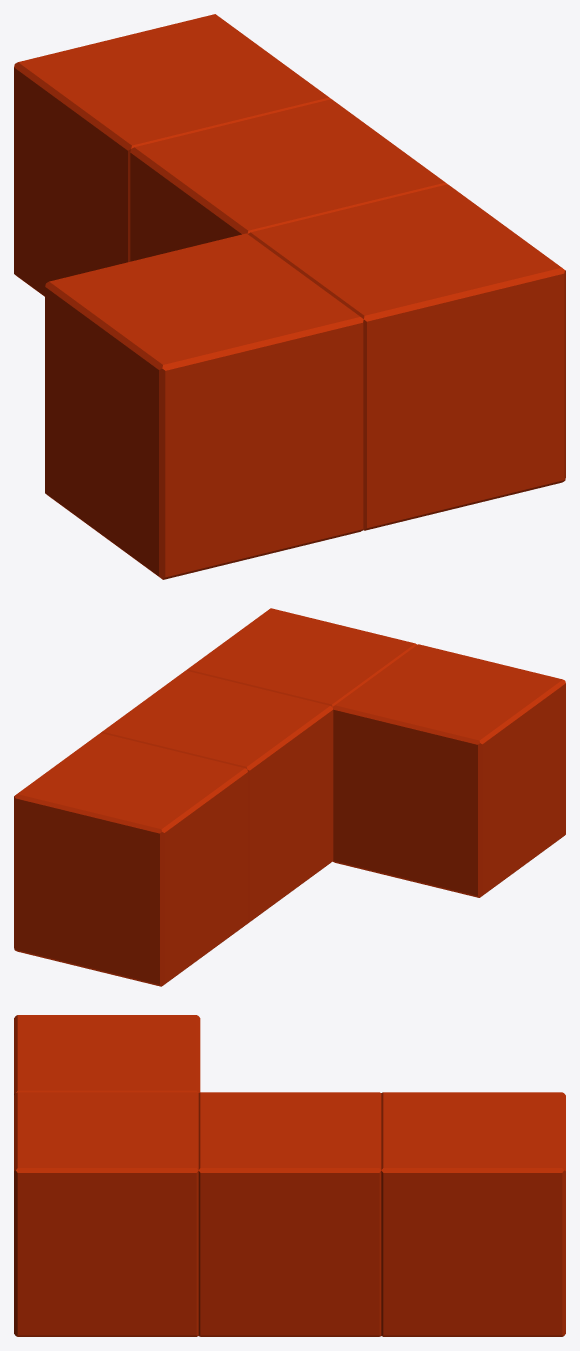
File: item5.FBX
3 views of the same model, one above another, from view 1: azimuth 30°, elevation 25°; view 2: azimuth 150°, elevation 25°; view 3: azimuth 270°, elevation 25° (orthographic). The views are drawn at different scales.
Visible parts, largest first — view 1: item5; view 2: item5; view 3: item5.
Boxes of the visible parts, bbox=[...] form: item5: bbox=[14, 14, 565, 579]; item5: bbox=[14, 608, 565, 986]; item5: bbox=[14, 1015, 565, 1336].
Bounding box in the file's own units: 18.23 × 9.21 × 27.26.
